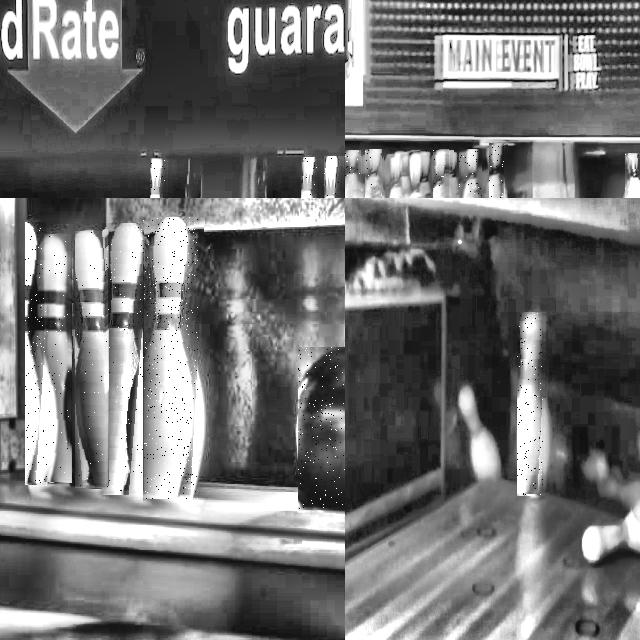bowling-ball: (299, 347, 345, 510)
bowling-pins: (143, 217, 198, 499), (102, 224, 144, 492), (75, 231, 106, 488), (43, 235, 69, 482), (26, 223, 44, 484), (518, 313, 543, 495), (459, 150, 480, 198), (365, 150, 382, 198), (489, 144, 504, 198), (345, 150, 360, 198), (434, 151, 447, 198), (627, 154, 640, 198), (304, 158, 316, 198), (331, 157, 342, 198), (155, 159, 166, 198)
